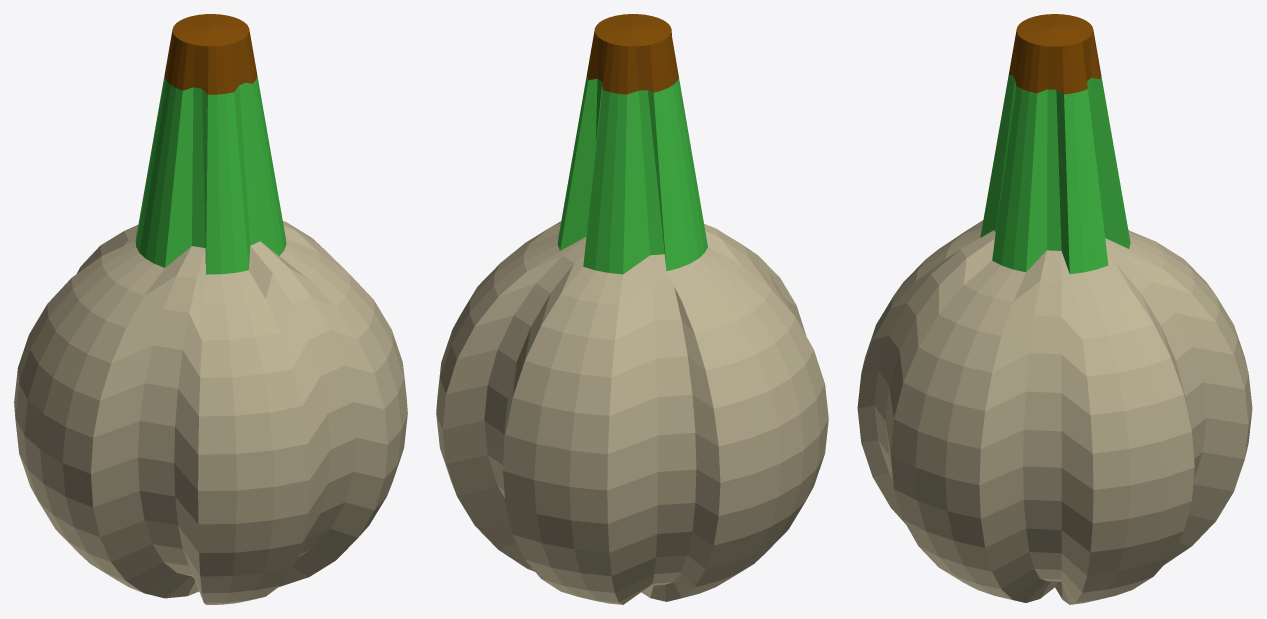
File: Garlic.fbx
The picture shows the model from 3 angles, left to right: view 1: azimuth 30°, elevation 25°; view 2: azimuth 150°, elevation 25°; view 3: azimuth 270°, elevation 25°; orthographic projection.
Parts seen in each view (by area): view 1: Sphere; view 2: Sphere; view 3: Sphere.
Part boxes in pixels (box(x1,y1,x2,y2)): Sphere: box(14, 14, 407, 604); Sphere: box(436, 14, 828, 604); Sphere: box(857, 14, 1252, 604).
Bounding box in the file's own units: 1.98 × 3.13 × 2.
